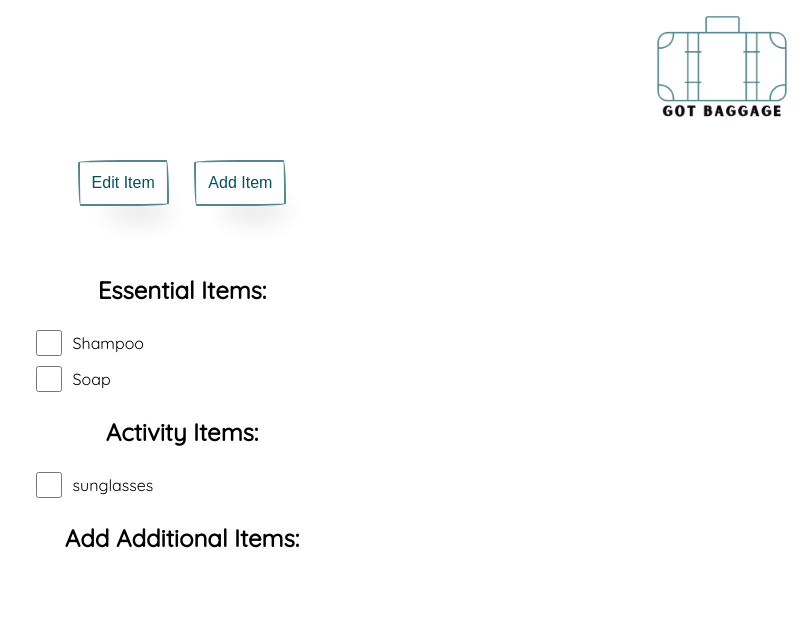
Test case: Items page › Should be able to create an item
Click the button with class "add-button": (240, 183) [194,160,286,206]
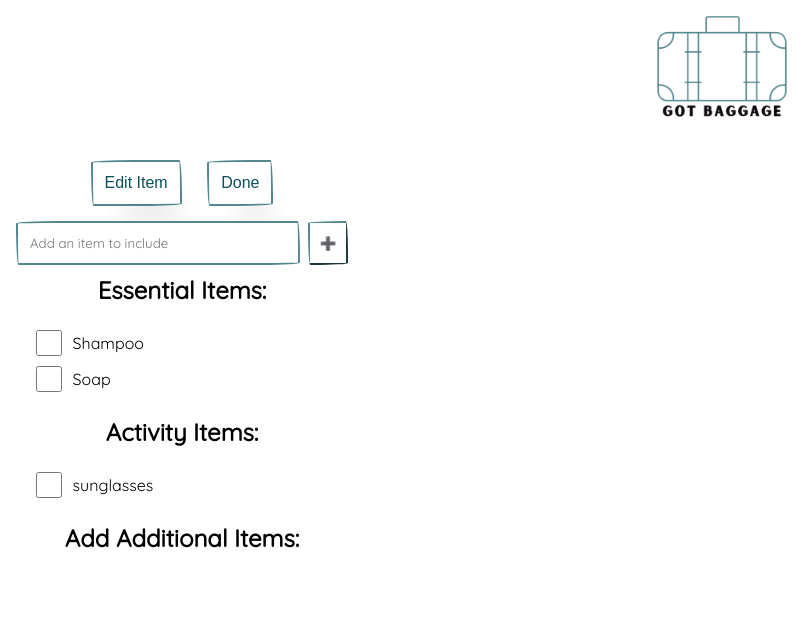
In the field with class "add-item-input": (158, 243) [16,221,300,265], type "Medicine"
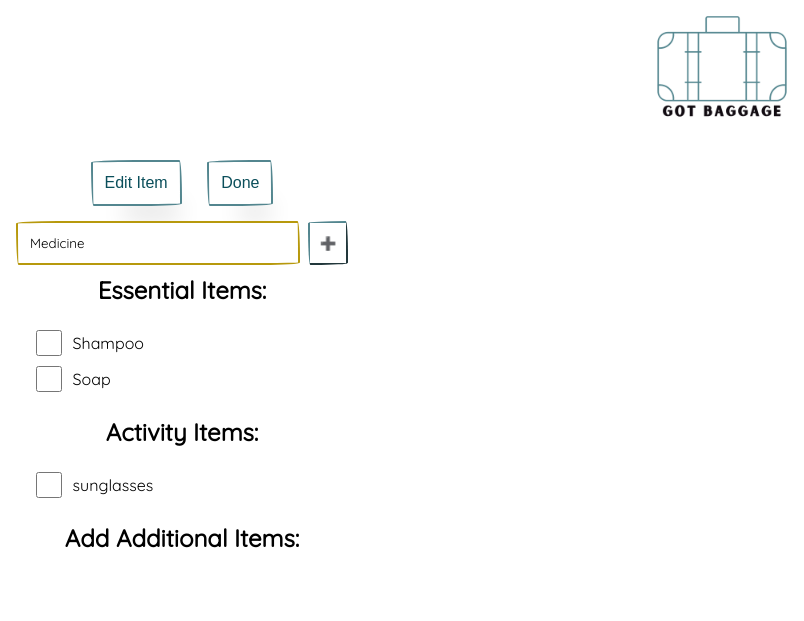
Click the button with class "add-item-button": (328, 243) [308,221,348,265]
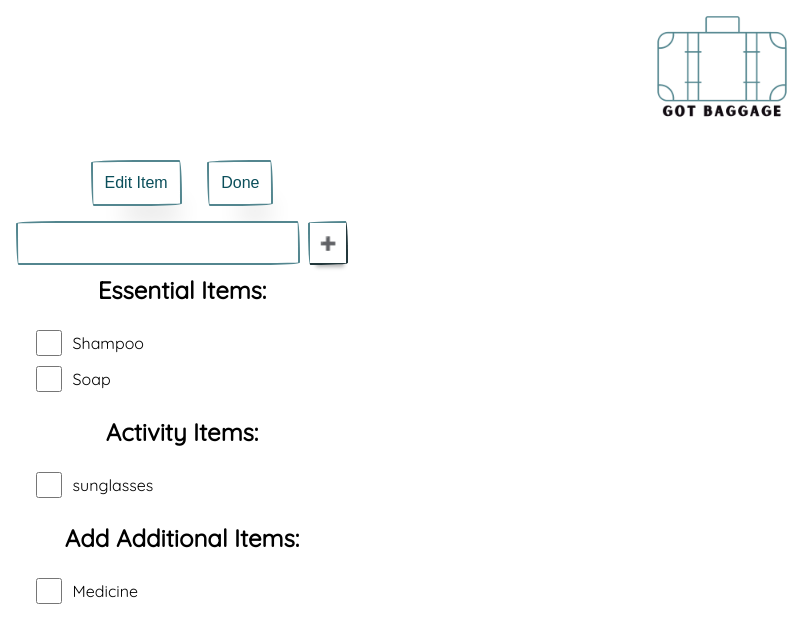
Result: the list item "Medicine" is shown at [73,580,138,600]
